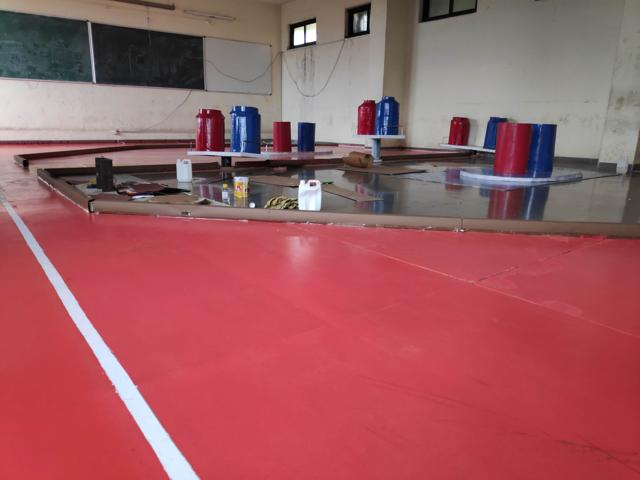Blue: (230, 105, 262, 153), (531, 122, 559, 175), (376, 95, 400, 138), (298, 120, 316, 154), (482, 115, 496, 149)
Red: (494, 123, 530, 175), (196, 108, 223, 152), (449, 115, 469, 148), (273, 121, 293, 152), (358, 100, 376, 134)
